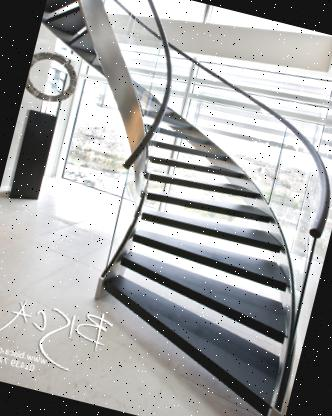stair: (92, 173, 314, 408)
